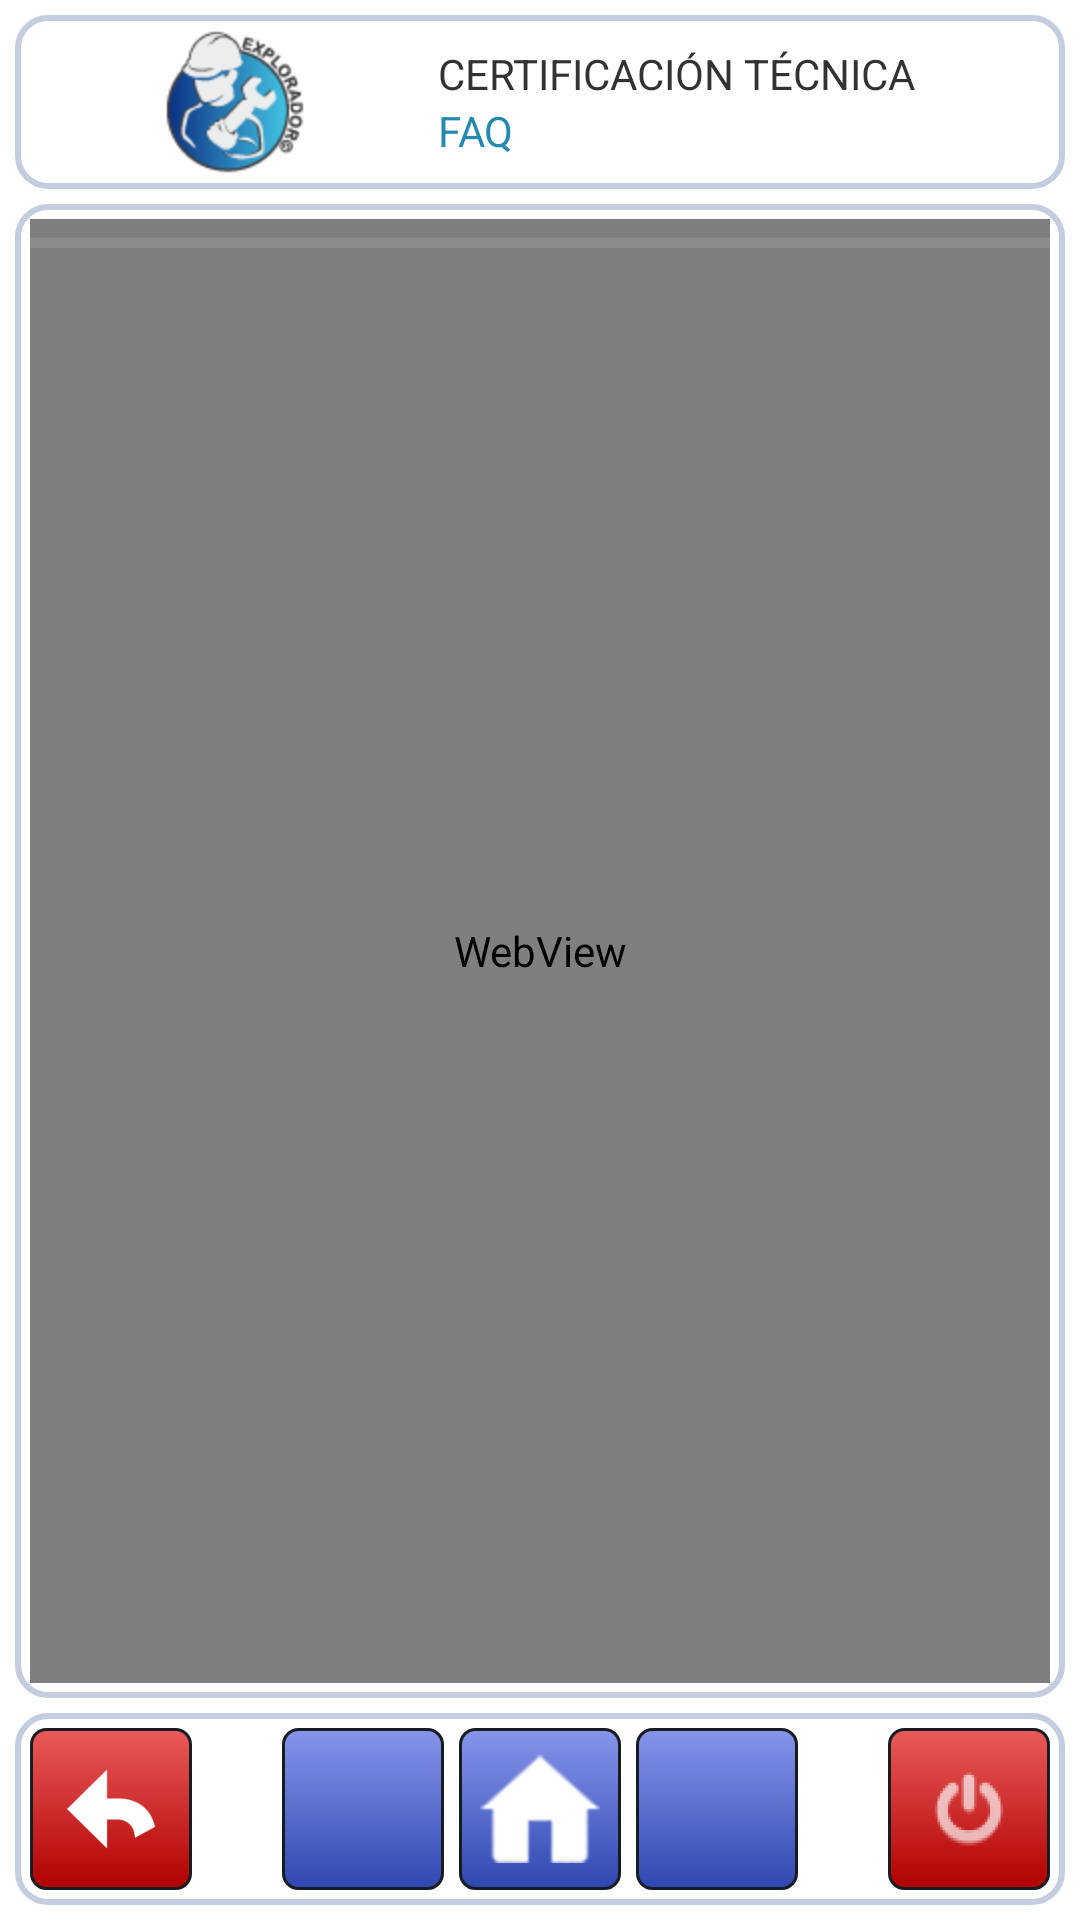

Icons on this 1080w x 1920h Android screen, each with its box as (x1,y1,x2,y2):
back: (30,1728,192,1890)
home: (459,1728,621,1890)
shutdown: (888,1728,1050,1890)
